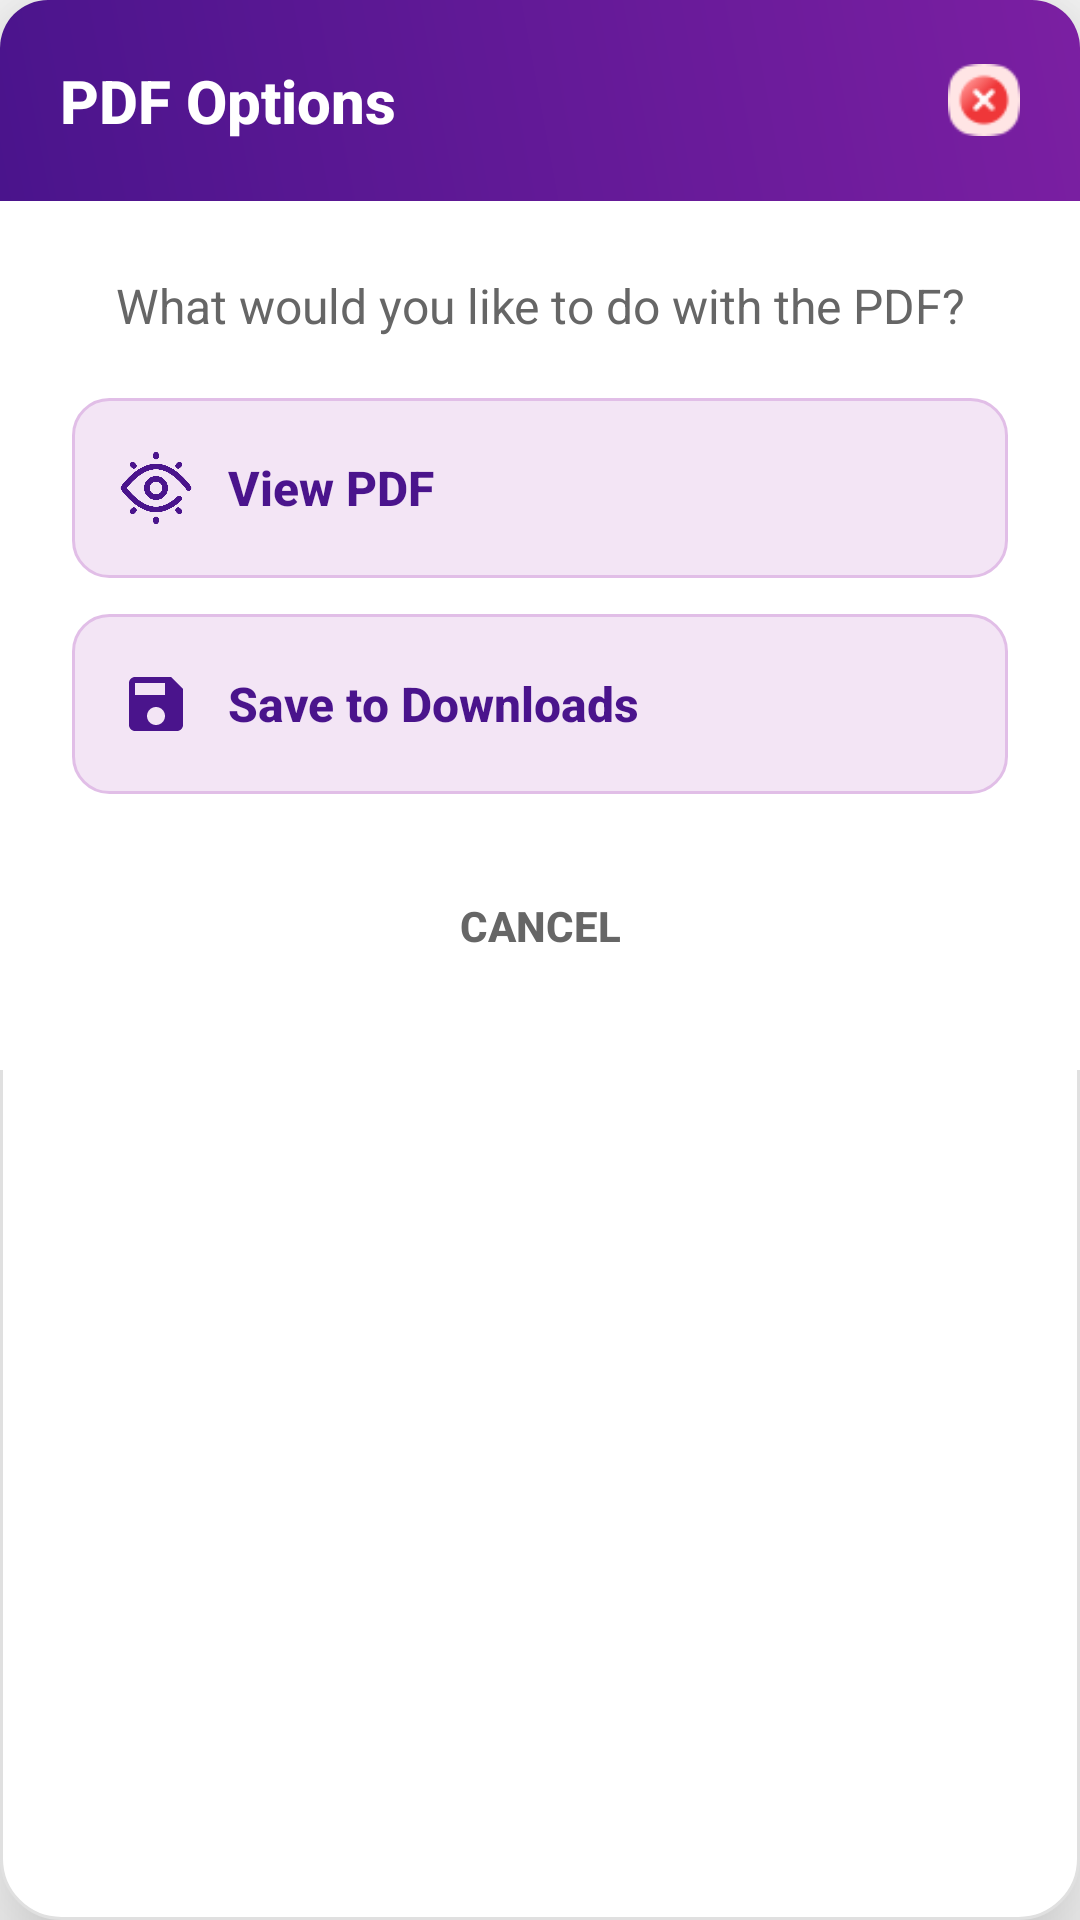

Where icons sit on this 1080×1920 app screen, as (x1, y1, x2, y2):
close: (948, 64, 1020, 136)
eye open: (120, 452, 192, 524)
